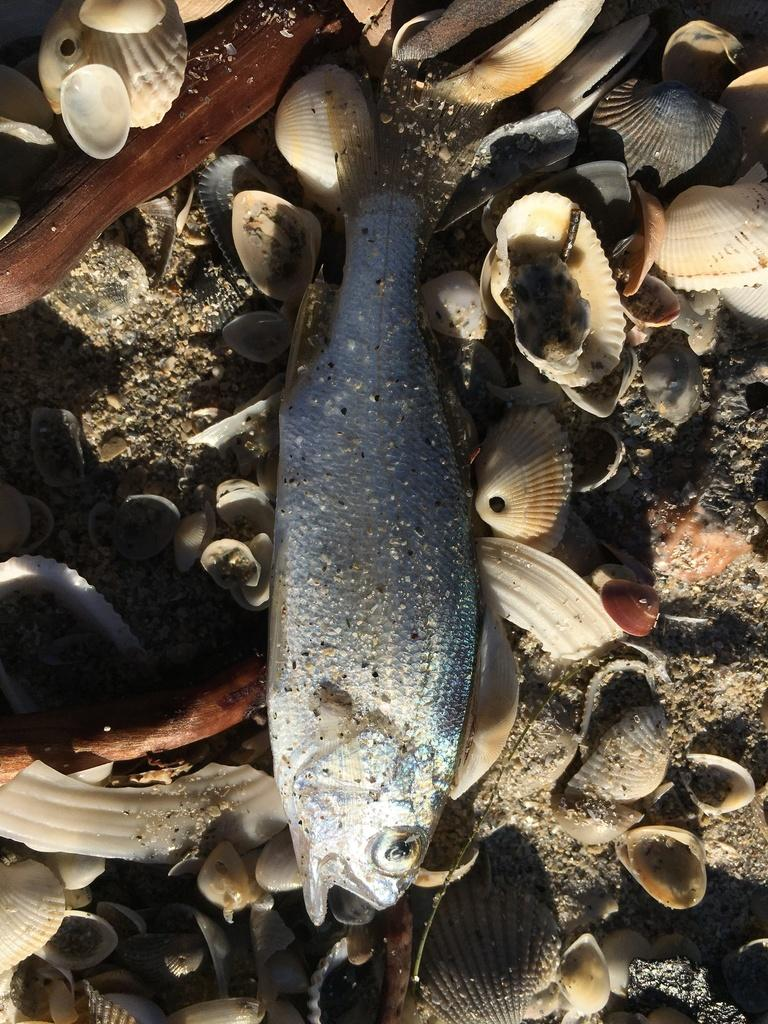Silver Perch: (243, 112, 508, 928)
